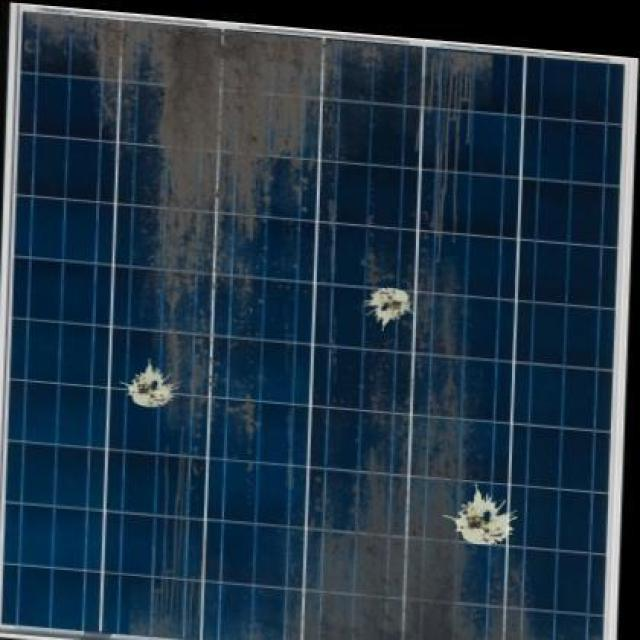soiled: (4, 3, 630, 640)
